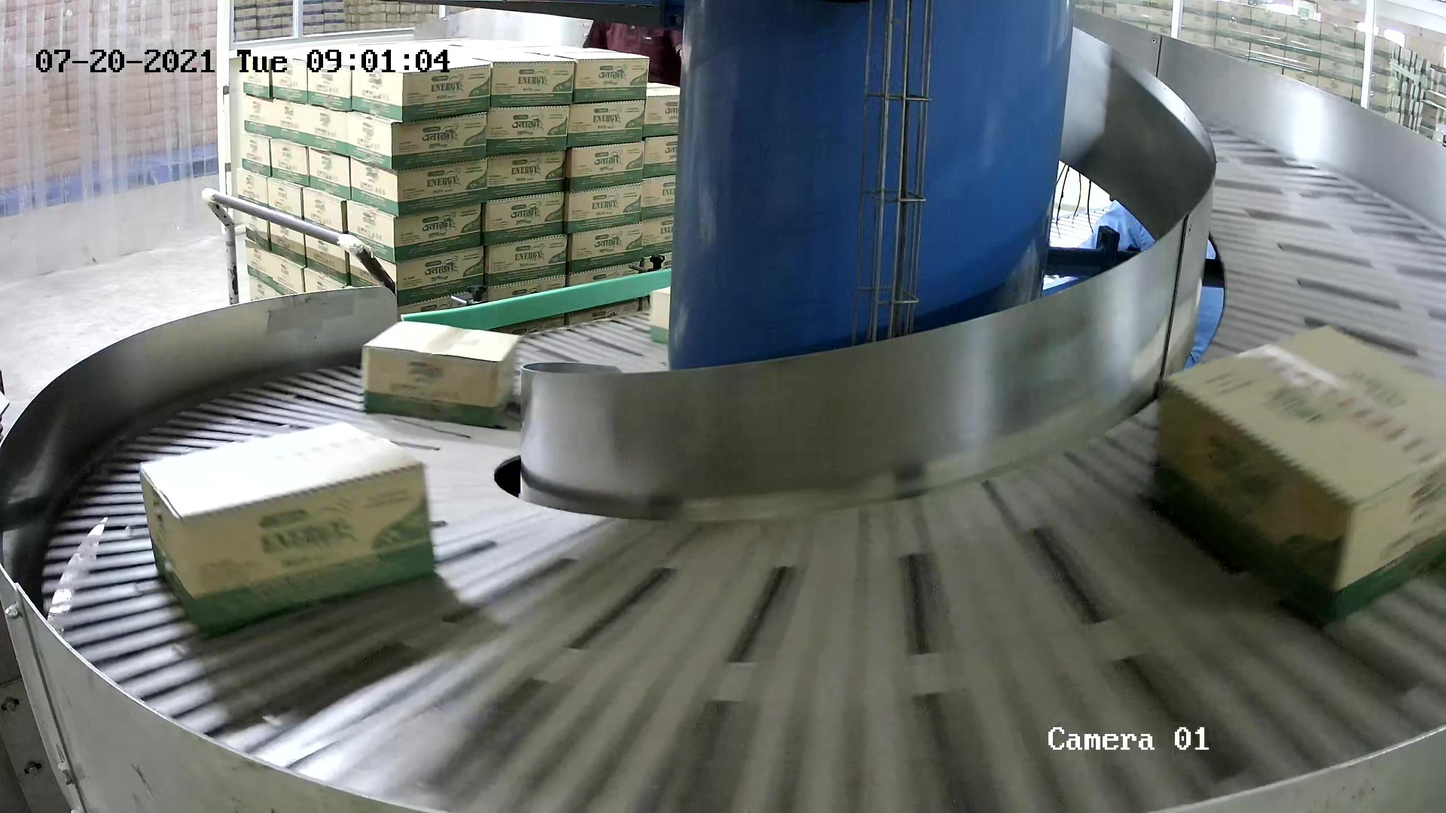Box: (1147, 322, 1446, 630), (138, 420, 439, 638), (361, 318, 522, 430)
